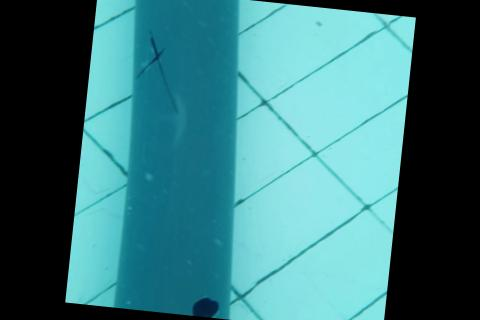kebocoran: (187, 294, 221, 318)
keretakan: (131, 26, 188, 118)
